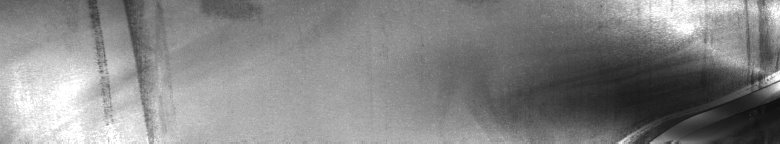ke: (624, 4, 776, 136)
